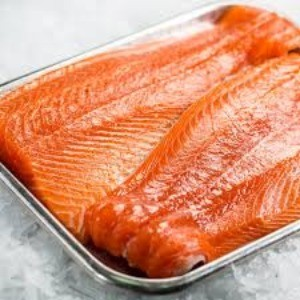salmon_brain food: (60, 97, 276, 206)
